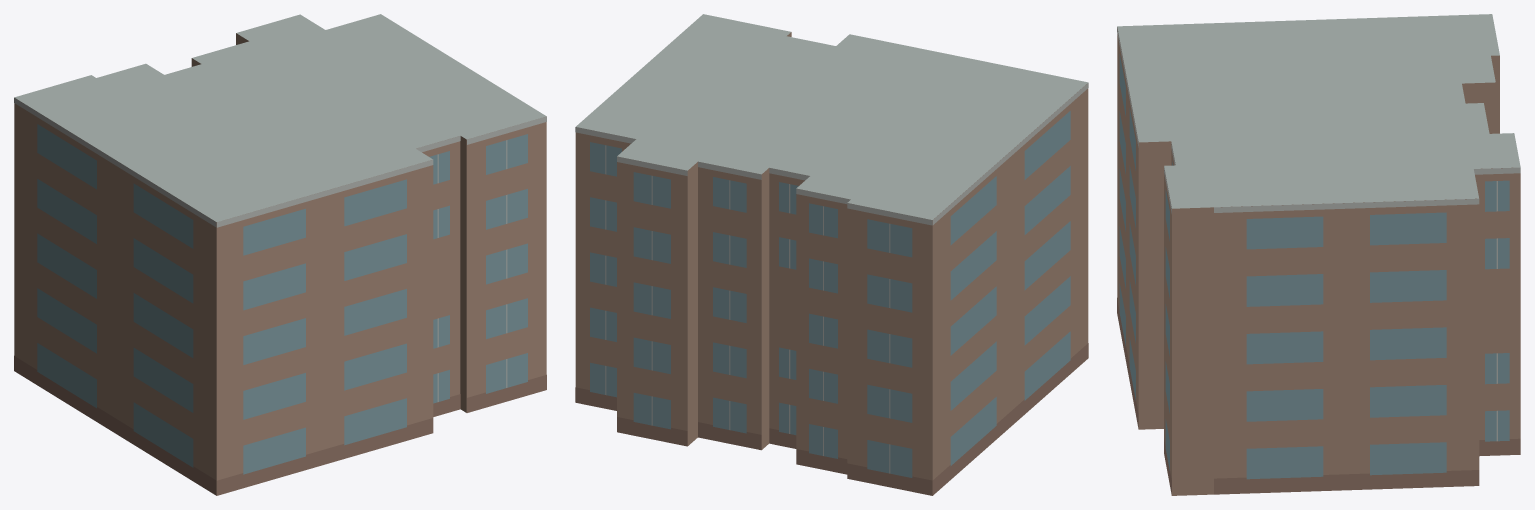
Rendered from survey-upis-32620135.glb.
3 views of the same model, side by side, from view 1: azimuth 30°, elevation 25°; view 2: azimuth 150°, elevation 25°; view 3: azimuth 270°, elevation 25° (orthographic). The views are drawn at different scales.
Visible parts, largest first — view 1: survey-upis-32620135.tmp; view 2: survey-upis-32620135.tmp; view 3: survey-upis-32620135.tmp.
Boxes of the visible parts, box(x1,y1,x2,y2) form: survey-upis-32620135.tmp: box(14, 14, 546, 495); survey-upis-32620135.tmp: box(575, 14, 1088, 495); survey-upis-32620135.tmp: box(1117, 14, 1520, 495).
Size of the model in its own units: 17.67 by 12.15 by 15.48.
